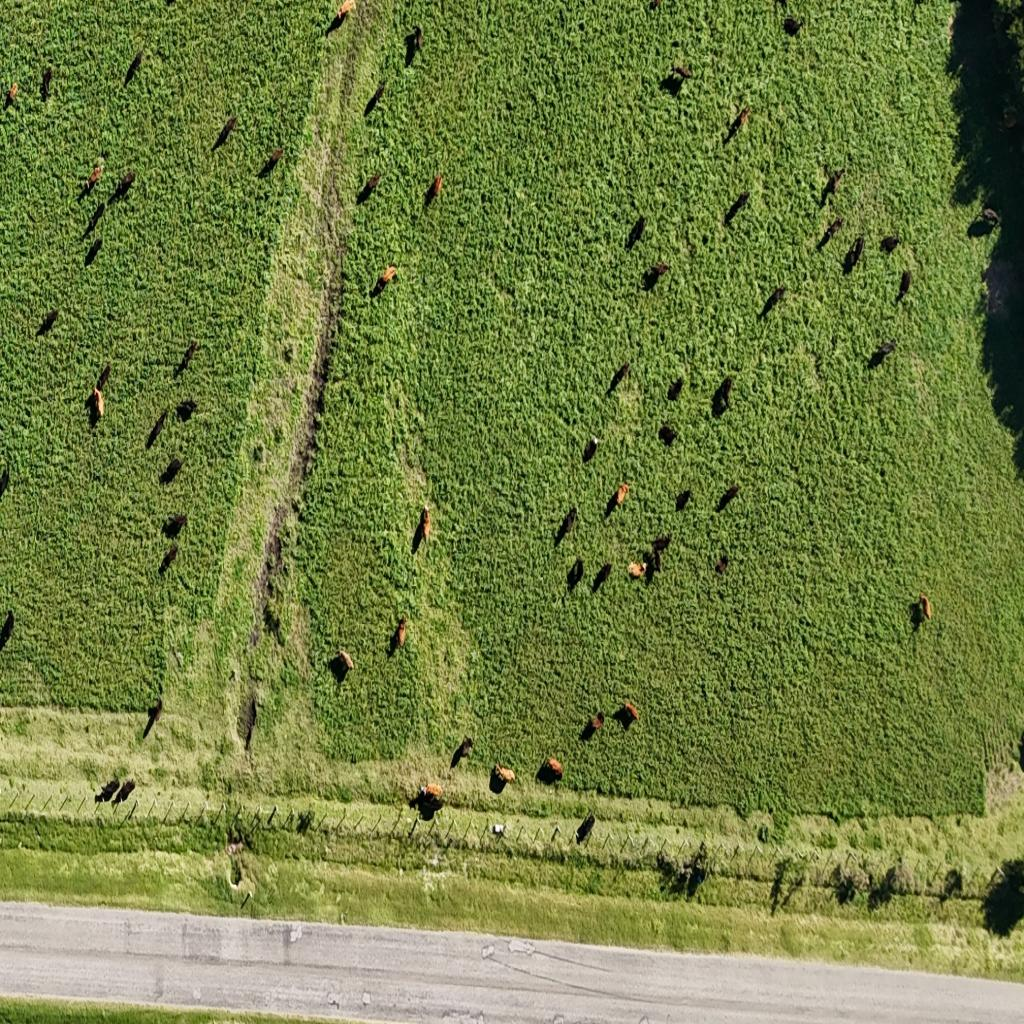cow: (860, 333, 904, 384), (705, 368, 740, 428), (959, 204, 1001, 254), (362, 257, 402, 309), (488, 759, 521, 807), (620, 206, 648, 254), (661, 60, 694, 100), (900, 594, 932, 630), (240, 694, 257, 750), (412, 508, 431, 557), (176, 339, 200, 377), (213, 114, 237, 150), (725, 107, 749, 143), (147, 410, 169, 449), (725, 192, 750, 224), (259, 147, 284, 179), (143, 698, 163, 738), (451, 735, 474, 769), (643, 261, 669, 291), (762, 285, 786, 317), (844, 236, 864, 273), (822, 168, 844, 201), (556, 507, 576, 543), (84, 202, 104, 238), (365, 80, 385, 115), (406, 25, 423, 65), (358, 174, 381, 202), (821, 217, 843, 246), (124, 50, 142, 85), (114, 170, 135, 200), (717, 483, 740, 510), (98, 776, 120, 804), (580, 714, 602, 742), (688, 862, 706, 896), (576, 812, 595, 844), (0, 609, 14, 652), (161, 458, 184, 484), (332, 0, 355, 26), (88, 387, 105, 422), (37, 308, 58, 336), (326, 10, 347, 38), (610, 361, 630, 390), (164, 514, 188, 538), (416, 794, 438, 820), (592, 562, 612, 590), (85, 236, 102, 268), (177, 398, 199, 422), (272, 530, 284, 574), (160, 544, 178, 573), (116, 779, 136, 805), (567, 558, 583, 590), (265, 606, 281, 638), (392, 617, 407, 651), (422, 781, 444, 804), (85, 165, 103, 193), (96, 362, 112, 392), (4, 81, 19, 112), (659, 423, 679, 446), (999, 109, 1019, 132), (544, 756, 563, 780), (620, 702, 640, 724), (667, 376, 683, 403), (40, 67, 52, 102), (582, 436, 598, 462), (898, 268, 911, 300), (409, 786, 425, 812), (337, 649, 354, 673), (880, 234, 900, 254), (784, 16, 804, 36), (648, 547, 662, 575), (615, 482, 630, 508), (297, 810, 313, 834), (430, 173, 443, 201), (673, 63, 693, 81), (652, 534, 670, 554), (0, 467, 10, 503), (676, 489, 691, 511), (628, 561, 646, 579), (715, 554, 728, 575), (814, 354, 825, 378), (1019, 726, 1024, 774), (283, 345, 293, 362), (292, 497, 302, 513), (649, 0, 663, 10), (913, 0, 925, 8), (165, 0, 177, 7)
